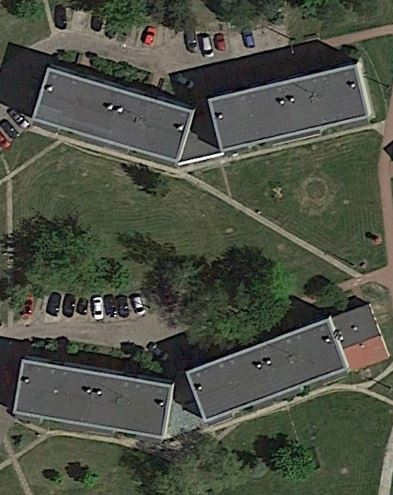block of flats: (184, 311, 351, 424), (29, 61, 199, 165), (201, 56, 379, 154), (9, 355, 177, 443)
